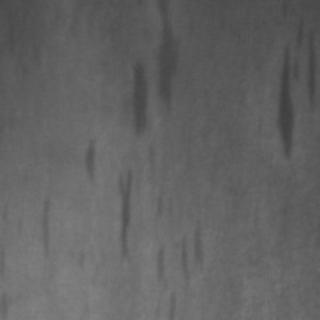inclusion: (266, 36, 302, 168), (146, 220, 212, 288), (146, 0, 184, 116), (106, 162, 142, 262), (116, 56, 150, 138), (29, 186, 61, 266), (70, 132, 106, 188)
